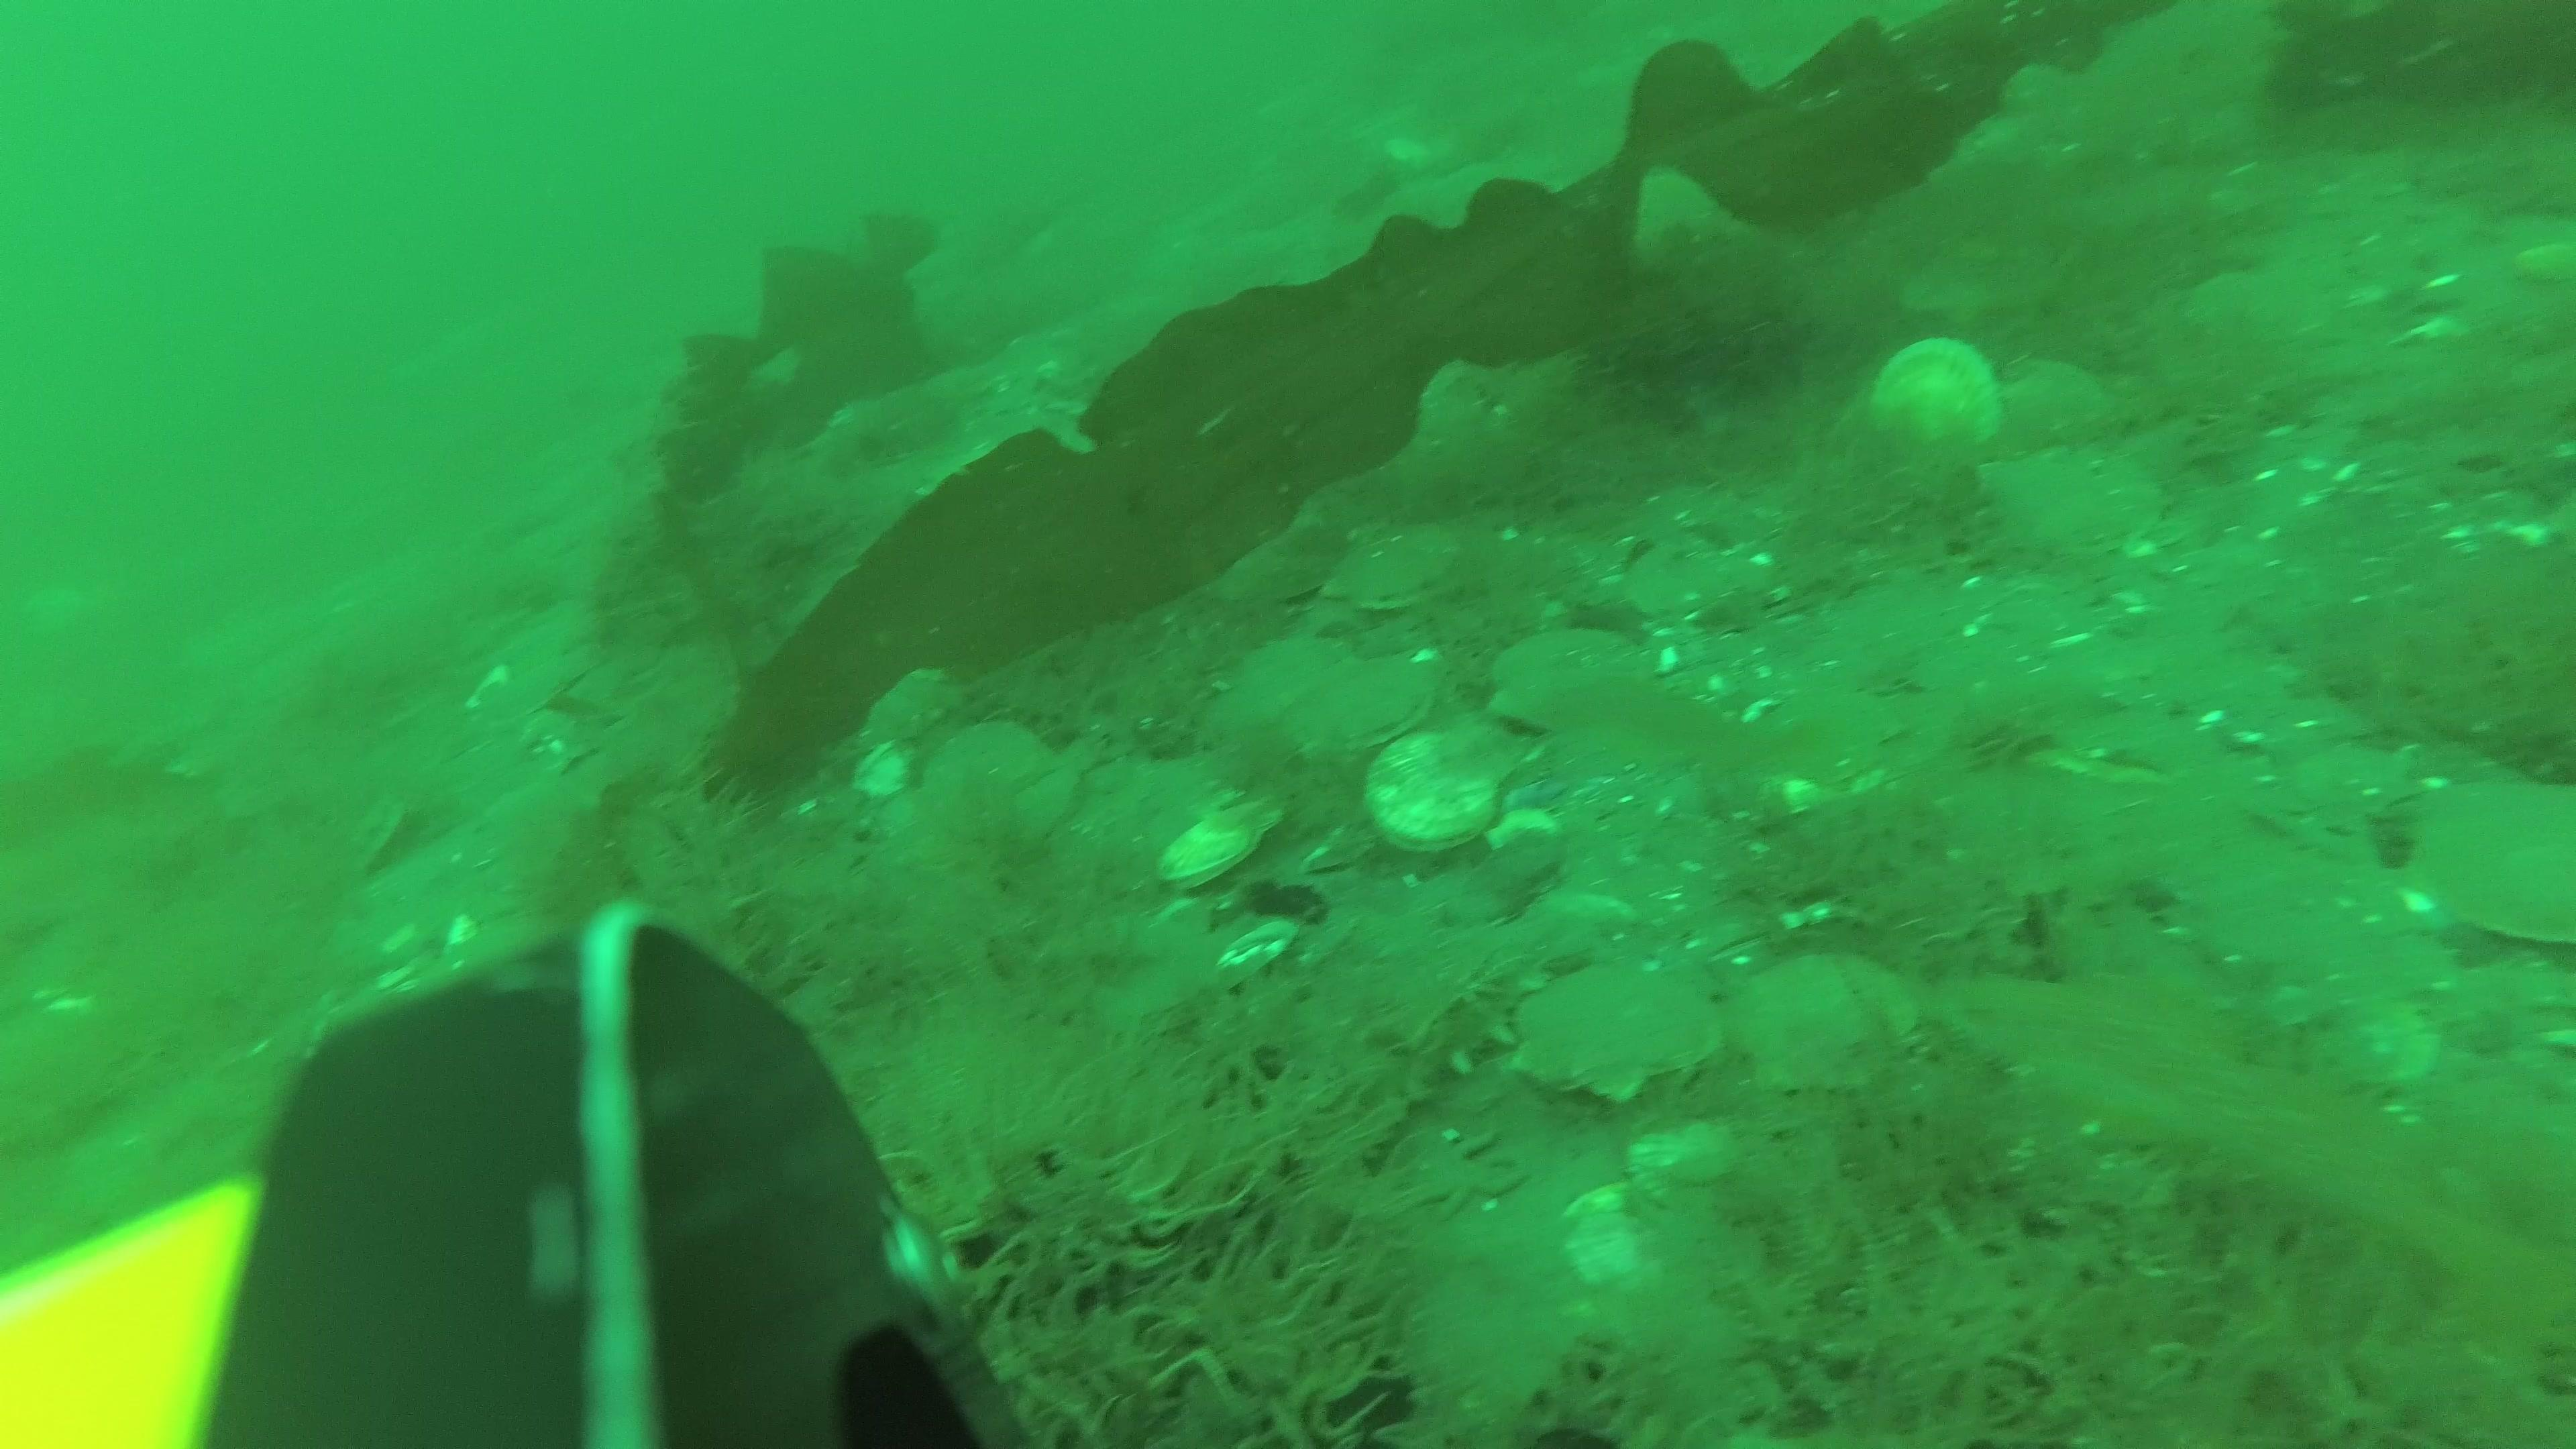holothurian: (1357, 927, 1552, 1102)
scallop: (2415, 780, 2576, 962), (1523, 970, 1713, 1118), (1743, 950, 1904, 1095), (1996, 441, 2153, 571), (1060, 752, 1203, 895), (1362, 718, 1499, 856), (929, 722, 1063, 847), (1874, 338, 2010, 460), (1493, 628, 1642, 732), (1150, 794, 1283, 899), (1299, 660, 1438, 757), (1214, 639, 1345, 736), (1334, 522, 1456, 619), (2196, 274, 2325, 357), (1997, 364, 2104, 462), (1633, 527, 1737, 625)
